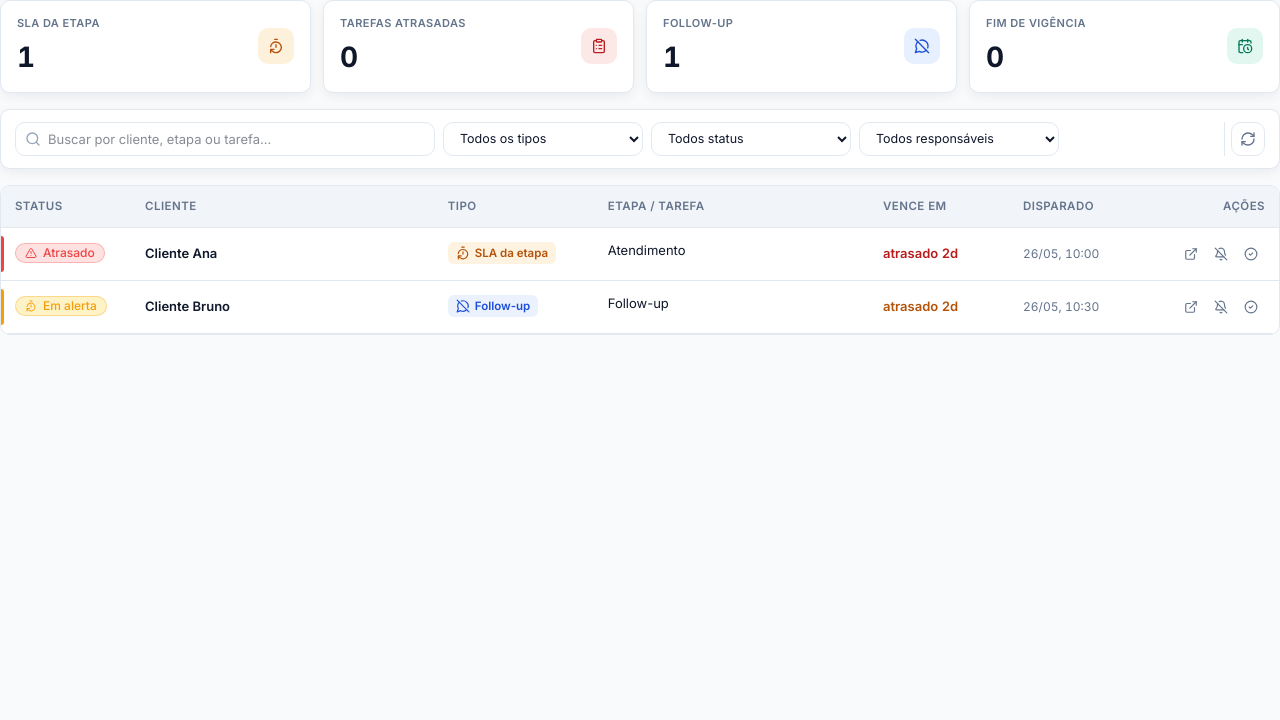
Test: AlertsView › explica quando o filtro de fim de vigência não tem alertas gerados
Select "Fim de vigência" in the dropdown named "Filtrar por tipo". click: (543, 138)
box: top-left (443, 122), bottom-right (643, 156)
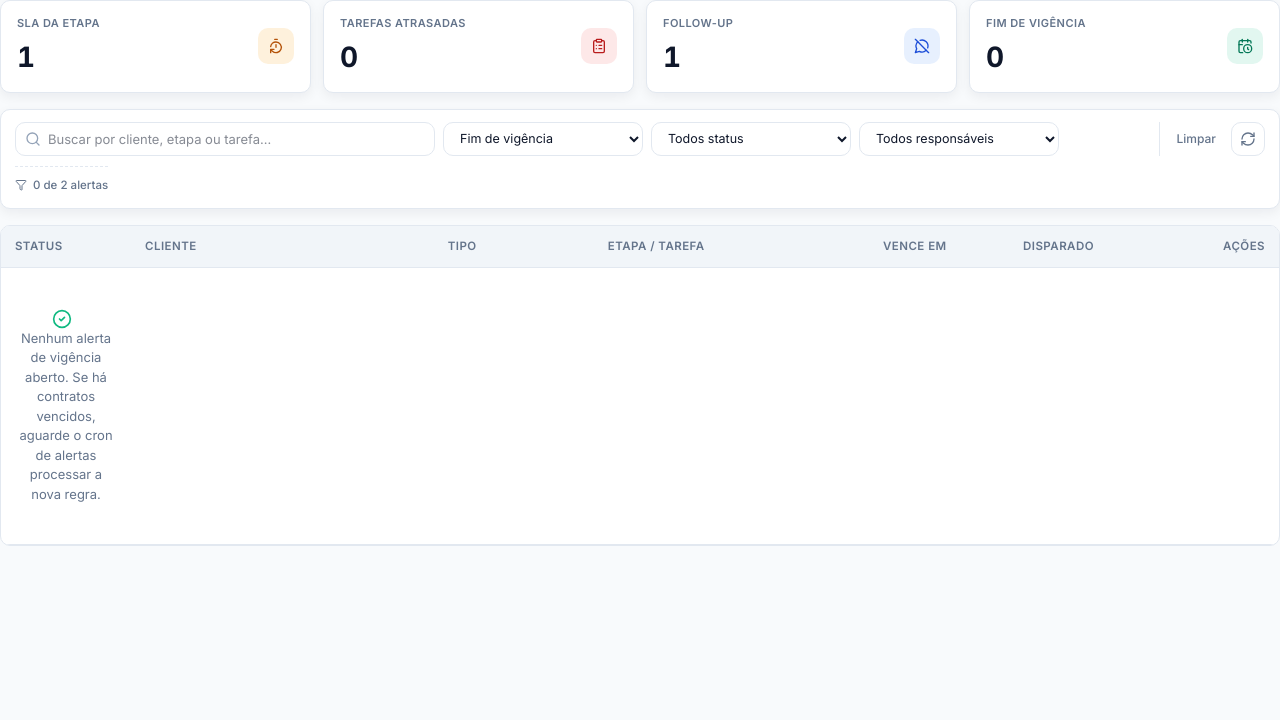
Expected: the text "Nenhum alerta de vigência aberto. Se há contratos vencidos, aguarde o cron de alertas processar a nova regra." is shown, top-left (19, 330), bottom-right (113, 502)
